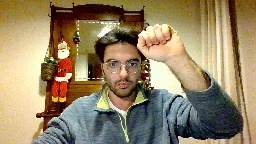Pugno: (133, 22, 189, 65)
